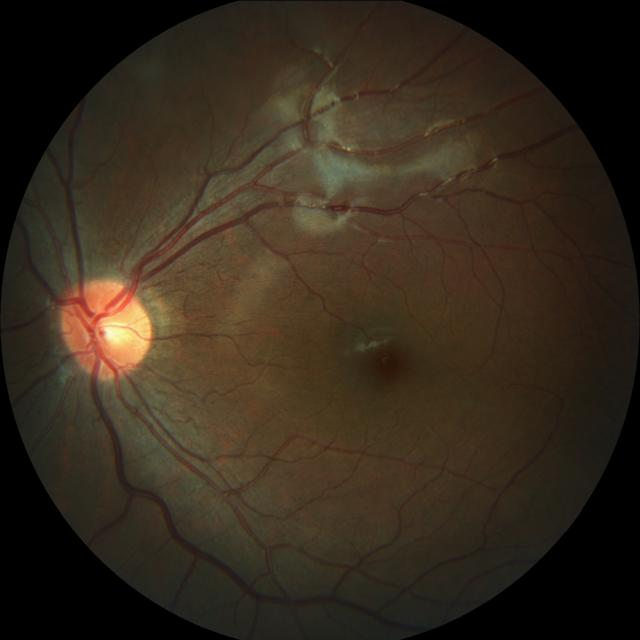OC: (86, 307, 129, 350)
OD: (59, 278, 149, 376)
